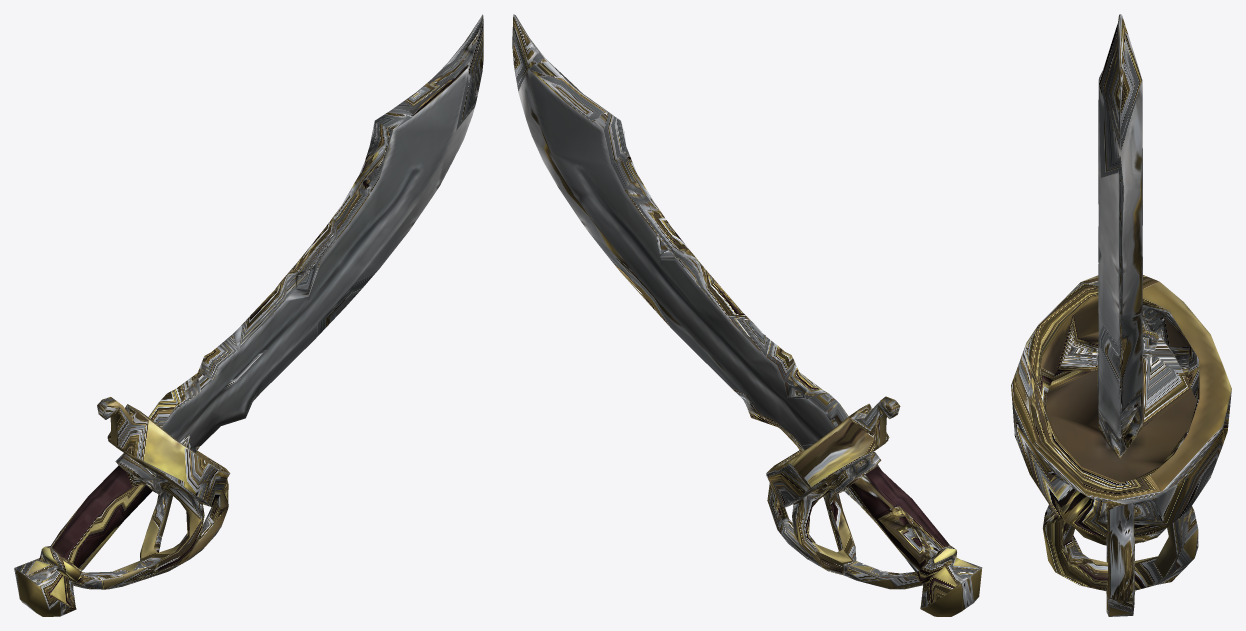
File: w_pirate_cutlass.glb
3 renders of one model, left to right at view 1: azimuth 30°, elevation 25°; view 2: azimuth 150°, elevation 25°; view 3: azimuth 270°, elevation 25°, orthographic. The views are drawn at different scales.
Size of the model in its own units: 0.9792 by 0.9996 by 0.219.
1 material, 1 textured.
